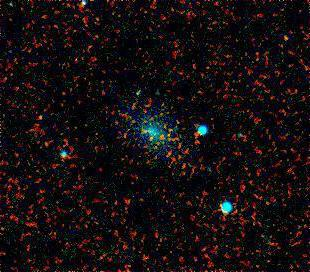star: (28, 98, 58, 128)
